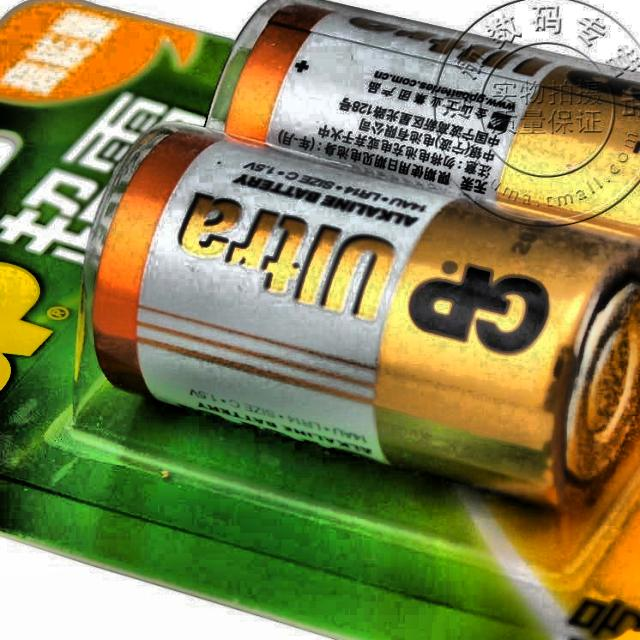Non-Valuable Waste - Batteries: (92, 130, 640, 505), (225, 1, 640, 236)
